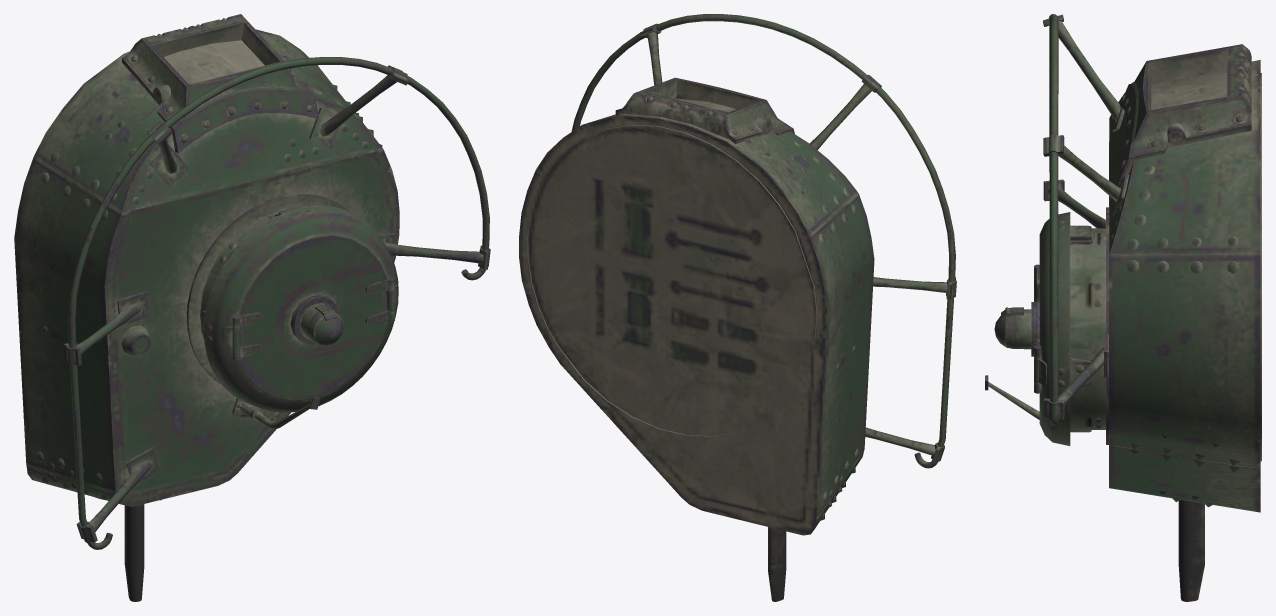
Rendered from Turret_01.glb.
3 views of the same model, side by side, from view 1: azimuth 30°, elevation 25°; view 2: azimuth 150°, elevation 25°; view 3: azimuth 270°, elevation 25° (orthographic). The views are drawn at different scales.
Parts seen in each view (by area): view 1: set_0_group_0; view 2: set_0_group_0; view 3: set_0_group_0.
Part boxes in pixels (x1=…): set_0_group_0: x1=14, y1=14, x2=490, y2=601; set_0_group_0: x1=519, y1=14, x2=956, y2=601; set_0_group_0: x1=985, y1=14, x2=1261, y2=601.
Bounding box in the file's own units: 1.66 × 2.11 × 0.882.
1 material, 1 textured.
